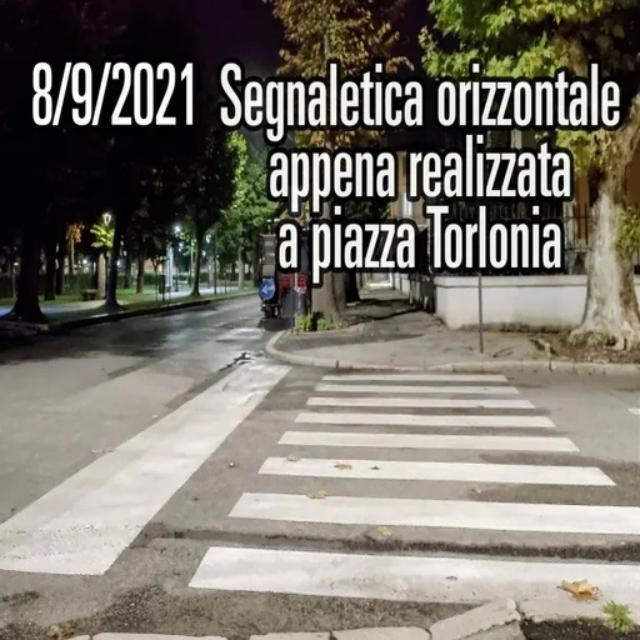sidewalk: (188, 367, 640, 619)
